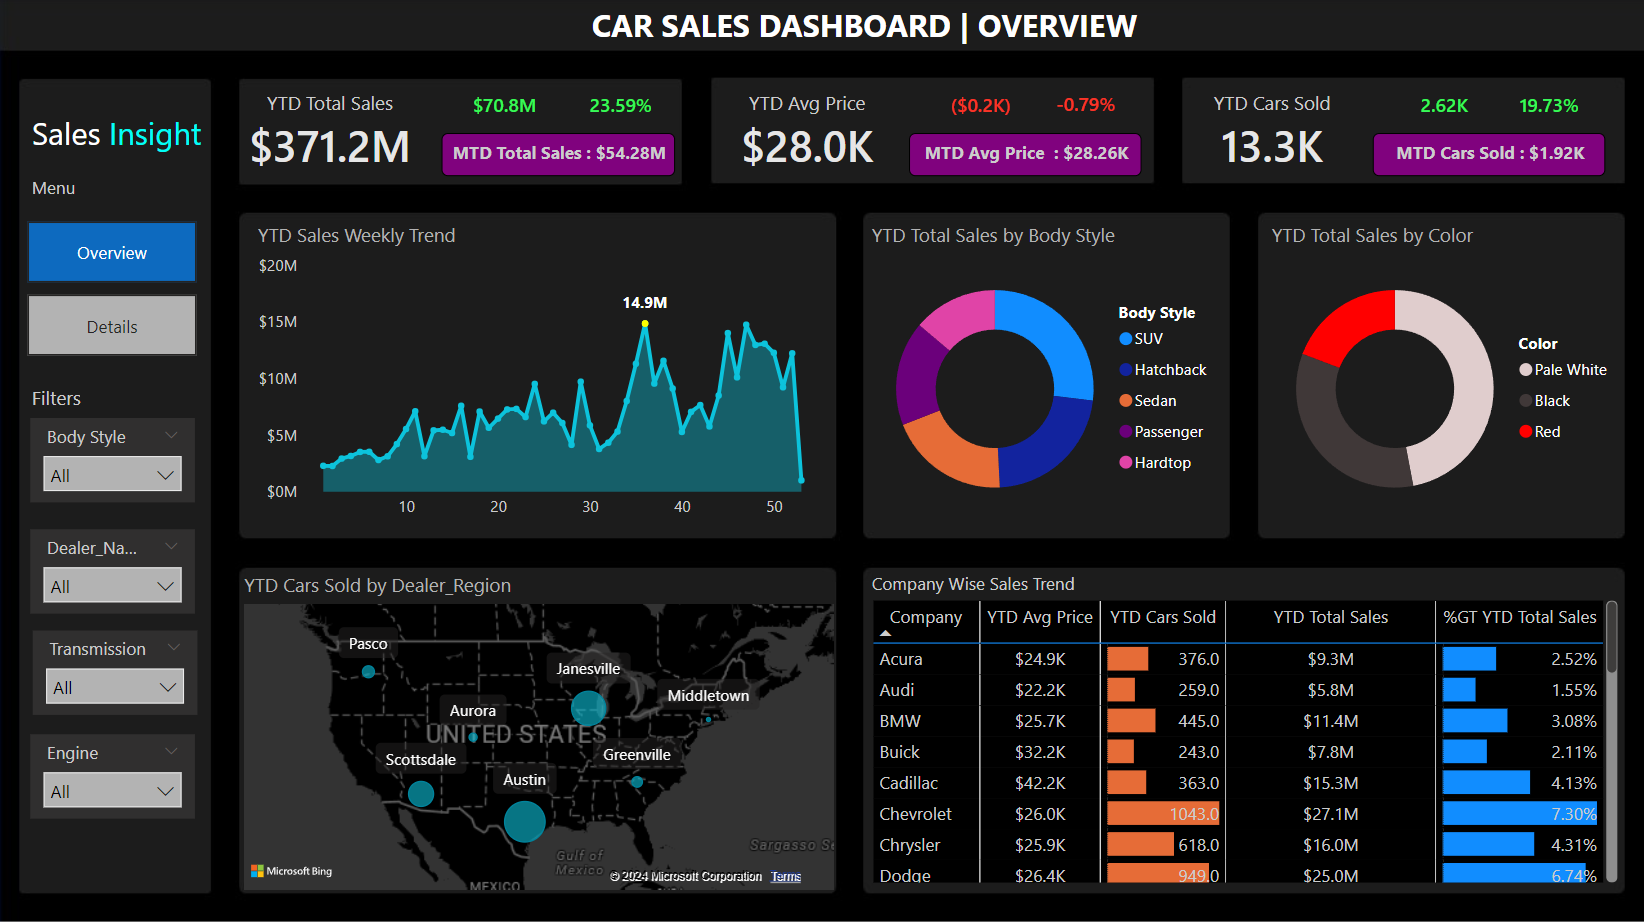

What the dashboard file says about the page in this screenshot:
{"tool":"powerbi","page":{"name":"Overview","canvas":[1280,720],"ordinal":0},"visuals":[{"type":"card","title":"YTD Total Sales ","fields":{"Values":["Measure.Total YTD"]},"box":[171.2,71.2,172.5,67.5],"z":0},{"type":"card","fields":{"Values":["Measure.Sales Difference"]},"box":[345,65,96.2,40],"z":1000},{"type":"card","fields":{"Values":["Measure.YoY Sales Growth"]},"box":[435,65,96.2,40],"z":2000},{"type":"card","fields":{"Values":["Measure.MTD KPI"]},"box":[343.8,105,181.2,33.8],"z":3000},{"type":"card","title":"YTD Avg Price","fields":{"Values":["Measure.YTD Avg Price"]},"box":[541.9,70.9,172.1,67.4],"z":4000},{"type":"card","fields":{"Values":["Measure.Avg Price Diff"]},"box":[714.8,65.5,95.9,40],"z":5000},{"type":"card","fields":{"Values":["Measure.YoY Avg Price Growth"]},"box":[796.9,64,95.9,40.6],"z":6000},{"type":"card","fields":{"Values":["Measure.MTD Avg Price KPI"]},"box":[707.2,104.5,180.8,33.2],"z":7000},{"type":"card","title":"YTD Cars Sold","fields":{"Values":["Measure.YTD Cars Sold"]},"box":[903.9,71.3,172.2,67.6],"z":8000},{"type":"card","fields":{"Values":["Measure.Cars Sold Diff"]},"box":[1076.1,65.2,95.9,40.6],"z":9000},{"type":"card","fields":{"Values":["Measure.YoY Cars Sold Growth"]},"box":[1157.3,65.2,95.9,40.6],"z":10000},{"type":"card","fields":{"Values":["Measure.MTD Cars Sold KPI"]},"box":[1067.5,104.5,180.8,33.2],"z":11000},{"type":"areaChart","title":"YTD Sales Weekly Trend","fields":{"Category":["Date.Week"],"Y":["Sum(car_data.Price ($))","Measure.Max Point"]},"box":[196.2,174.3,456.9,240.1],"z":12000},{"type":"donutChart","fields":{"Category":["car_data.Body Style"],"Y":["Measure.YTD Total Sales"]},"box":[673.8,174.3,279.9,240.1],"z":13000},{"type":"donutChart","fields":{"Y":["Measure.YTD Total Sales"],"Category":["car_data.Color"]},"box":[983.9,174.3,279.9,240.1],"z":14000},{"type":"map","fields":{"Category":["car_data.Dealer_Region"],"Size":["Measure.YTD Cars Sold"]},"box":[185.2,446,467.9,252.5],"z":15000},{"type":"tableEx","title":"Company Wise Sales Trend ","fields":{"Values":["car_data.Company","Measure.YTD Avg Price","Measure.YTD Cars Sold","Measure.YTD Total Sales1","Measure.YTD Total Sales"]},"box":[673.8,446,590.1,247],"z":16000},{"type":"textbox","box":[430.9,0,484.4,49.4],"z":17000},{"type":"slicer","fields":{"Values":["car_data.Body Style"]},"box":[24.7,326.6,127.6,65.9],"z":18000},{"type":"slicer","fields":{"Values":["car_data.Dealer_Name"]},"box":[24.7,413,127.6,65.9],"z":18001},{"type":"slicer","fields":{"Values":["car_data.Transmission"]},"box":[26.1,491.3,127.6,65.9],"z":18002},{"type":"slicer","fields":{"Values":["car_data.Engine"]},"box":[24.7,572.2,127.6,65.9],"z":18003},{"type":"textbox","box":[20.6,295,149.6,30.2],"z":18004},{"type":"textbox","box":[20.6,83.7,159.2,49.4],"z":18005},{"type":"textbox","box":[20.6,133.1,68.6,41.2],"z":18006},{"type":"pageNavigator","box":[22,174.3,131.7,105.7],"z":18007}]}

Visuals, with their boxes on the page's 1280x720 design canvas (x1, y1, x2, y2). These are canvas units, not pixel positions in the 1644x922 screenshot, which may show the page scaled, cropped or inside an application window:
"YTD Total Sales " card: l=171, t=71, r=344, b=139
card - Measure.Sales Difference: l=345, t=65, r=441, b=105
card - Measure.YoY Sales Growth: l=435, t=65, r=531, b=105
card - Measure.MTD KPI: l=344, t=105, r=525, b=139
"YTD Avg Price" card: l=542, t=71, r=714, b=138
card - Measure.Avg Price Diff: l=715, t=66, r=811, b=106
card - Measure.YoY Avg Price Growth: l=797, t=64, r=893, b=105
card - Measure.MTD Avg Price KPI: l=707, t=104, r=888, b=138
"YTD Cars Sold" card: l=904, t=71, r=1076, b=139
card - Measure.Cars Sold Diff: l=1076, t=65, r=1172, b=106
card - Measure.YoY Cars Sold Growth: l=1157, t=65, r=1253, b=106
card - Measure.MTD Cars Sold KPI: l=1068, t=104, r=1248, b=138
"YTD Sales Weekly Trend" areaChart: l=196, t=174, r=653, b=414
donutChart - car_data.Body Style x Measure.YTD Total Sales: l=674, t=174, r=954, b=414
donutChart - Measure.YTD Total Sales x car_data.Color: l=984, t=174, r=1264, b=414
map - car_data.Dealer_Region x Measure.YTD Cars Sold: l=185, t=446, r=653, b=698
"Company Wise Sales Trend " tableEx: l=674, t=446, r=1264, b=693
textbox: l=431, t=0, r=915, b=49
slicer - car_data.Body Style: l=25, t=327, r=152, b=392
slicer - car_data.Dealer_Name: l=25, t=413, r=152, b=479
slicer - car_data.Transmission: l=26, t=491, r=154, b=557
slicer - car_data.Engine: l=25, t=572, r=152, b=638
textbox: l=21, t=295, r=170, b=325
textbox: l=21, t=84, r=180, b=133
textbox: l=21, t=133, r=89, b=174
pageNavigator: l=22, t=174, r=154, b=280
